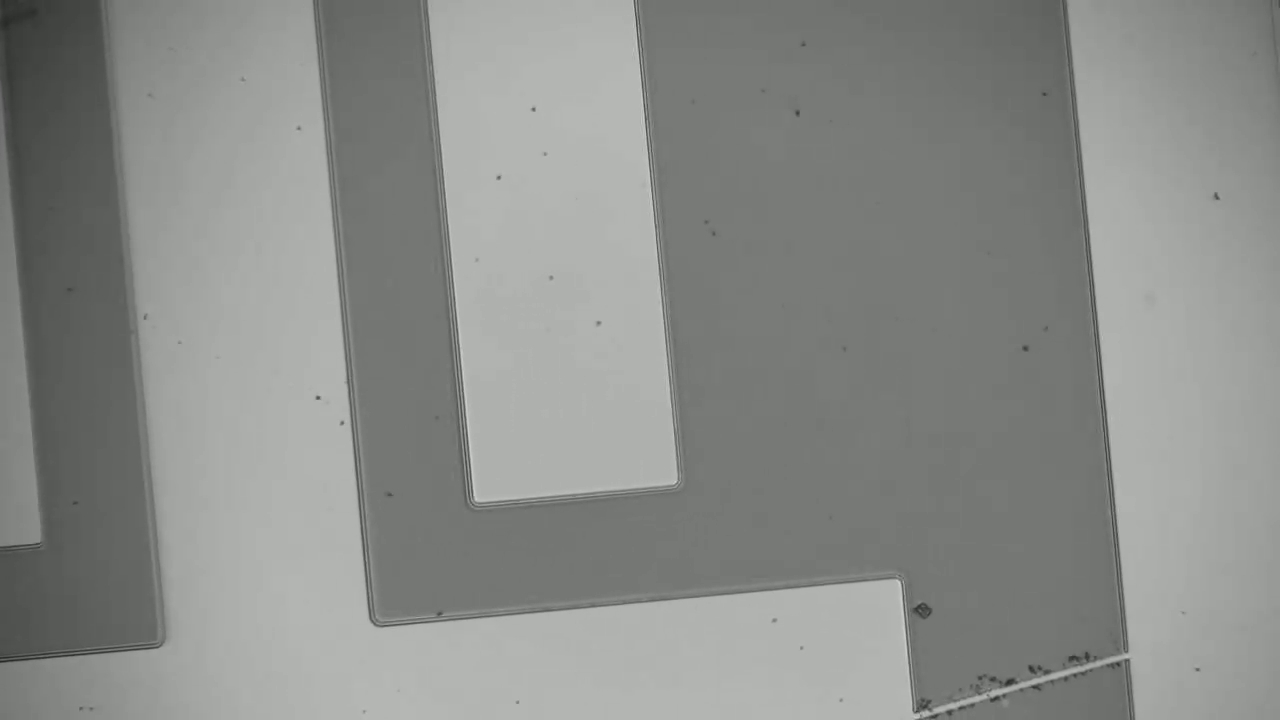scratch: (916, 658, 1127, 717)
